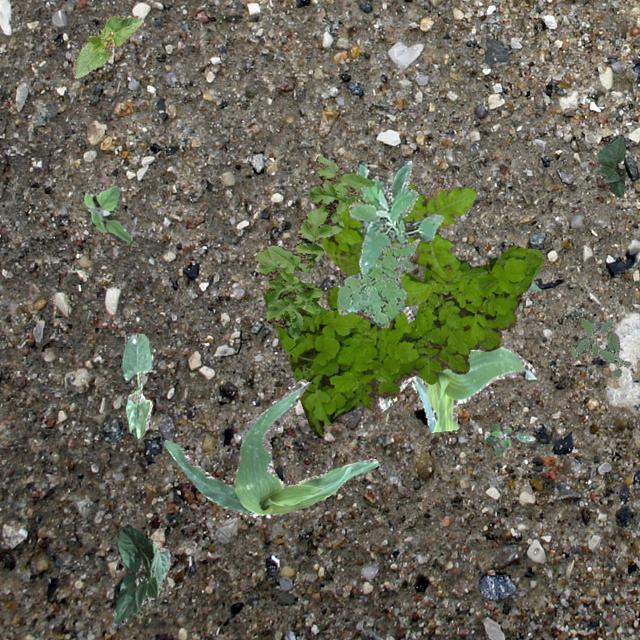crop: (164, 378, 378, 516), (378, 279, 540, 432), (111, 524, 172, 626), (72, 14, 142, 76), (120, 332, 152, 438), (594, 134, 624, 196)
weed: (262, 245, 542, 434), (254, 154, 374, 338), (320, 178, 474, 306), (348, 160, 442, 272), (336, 242, 416, 326), (570, 316, 630, 376), (82, 185, 132, 242), (484, 422, 534, 456)
